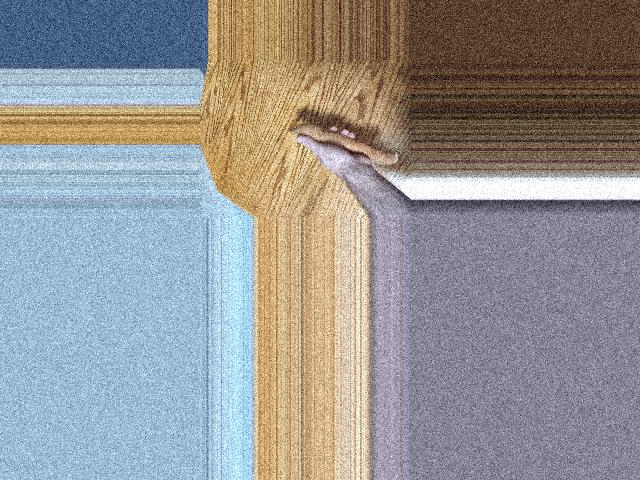sweet_potato: (292, 119, 399, 168)
